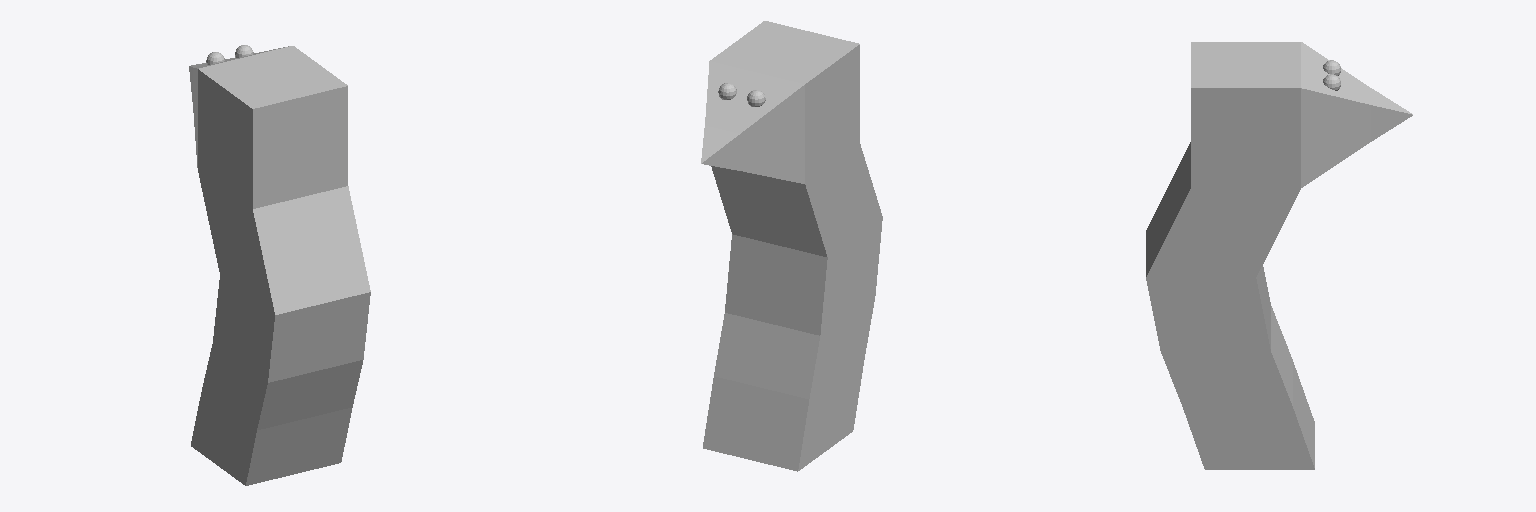
File: generic_object_snakecrow.obj
3 views of the same model, side by side, from view 1: azimuth 30°, elevation 25°; view 2: azimuth 150°, elevation 25°; view 3: azimuth 270°, elevation 25° (orthographic).
Visible parts, largest first — view 1: Cube; view 2: Cube, tip_Cube.001; view 3: Cube, tip_Cube.001.
Boxes of the visible parts, box(x1,y1,x2,y2) form: Cube: box(191, 46, 370, 485); Cube: box(703, 21, 882, 471); tip_Cube.001: box(701, 126, 739, 170); Cube: box(1146, 42, 1370, 469); tip_Cube.001: box(1371, 88, 1412, 141).
Size of the model in its own units: 2 by 7.64 by 4.86.